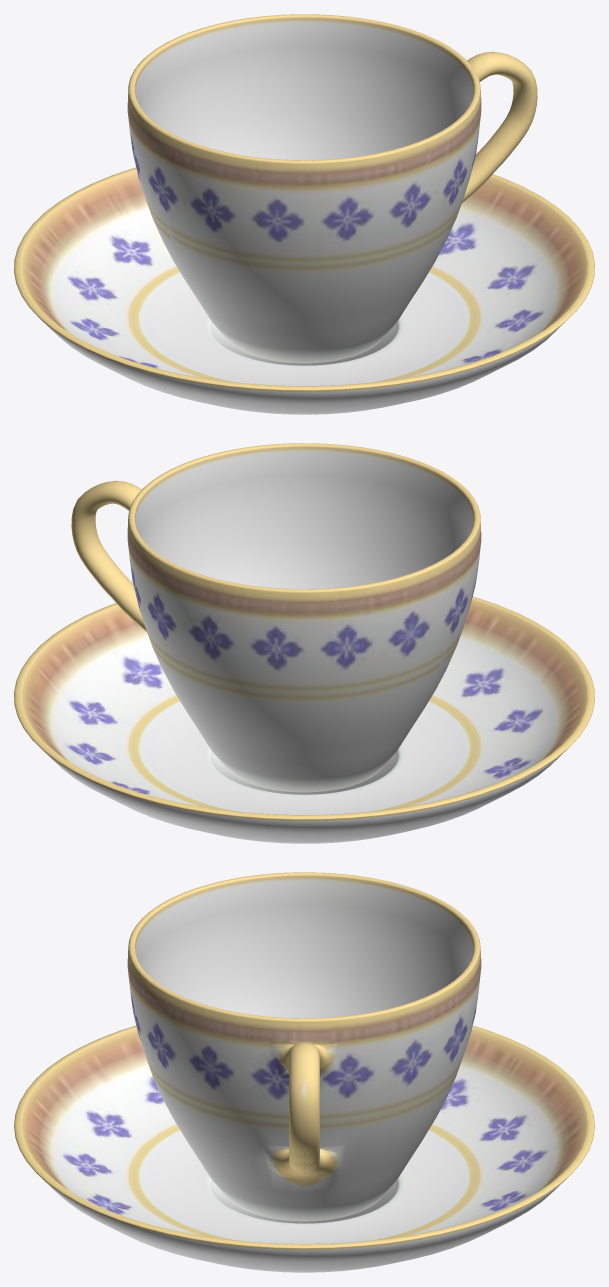
Rendered from vict_cup___saucer.glb.
3 renders of one model, top to bottom at view 1: azimuth 30°, elevation 25°; view 2: azimuth 150°, elevation 25°; view 3: azimuth 270°, elevation 25°, orthographic.
Visible parts, largest first — view 1: defaultMaterial; view 2: defaultMaterial; view 3: defaultMaterial.
Part boxes in pixels (<box>): defaultMaterial: <box>14,14,594,414</box>; defaultMaterial: <box>14,443,594,843</box>; defaultMaterial: <box>14,872,594,1272</box>.
Bounding box in the file's own units: 0.14 × 0.0728 × 0.14.
1 material, 1 textured.
